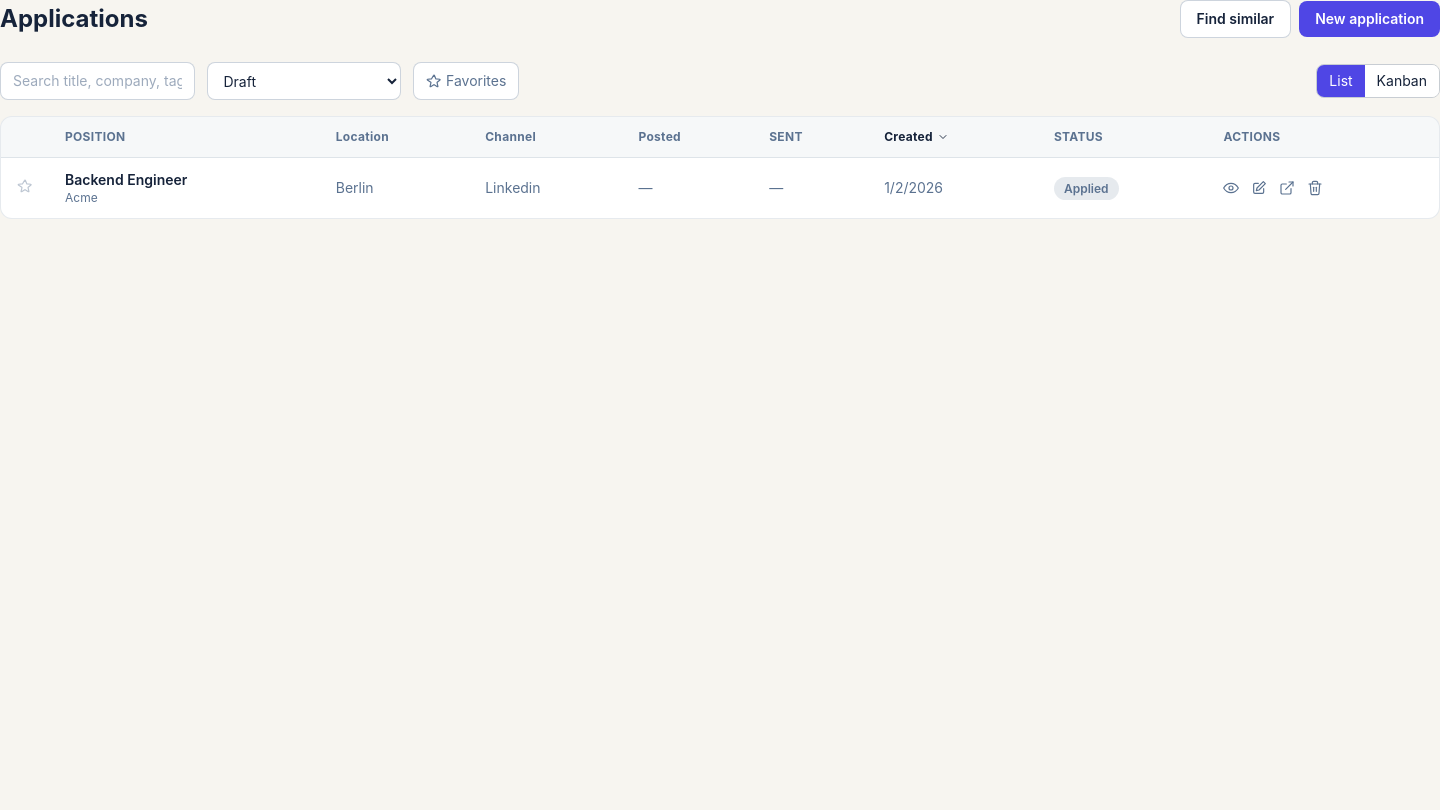
Scenario: ApplicationsListPage › opens the quick-view modal with the job description when the view icon is clicked (happy path)
Click the button named "view details" at (1231, 188), box [1223,180,1239,196]
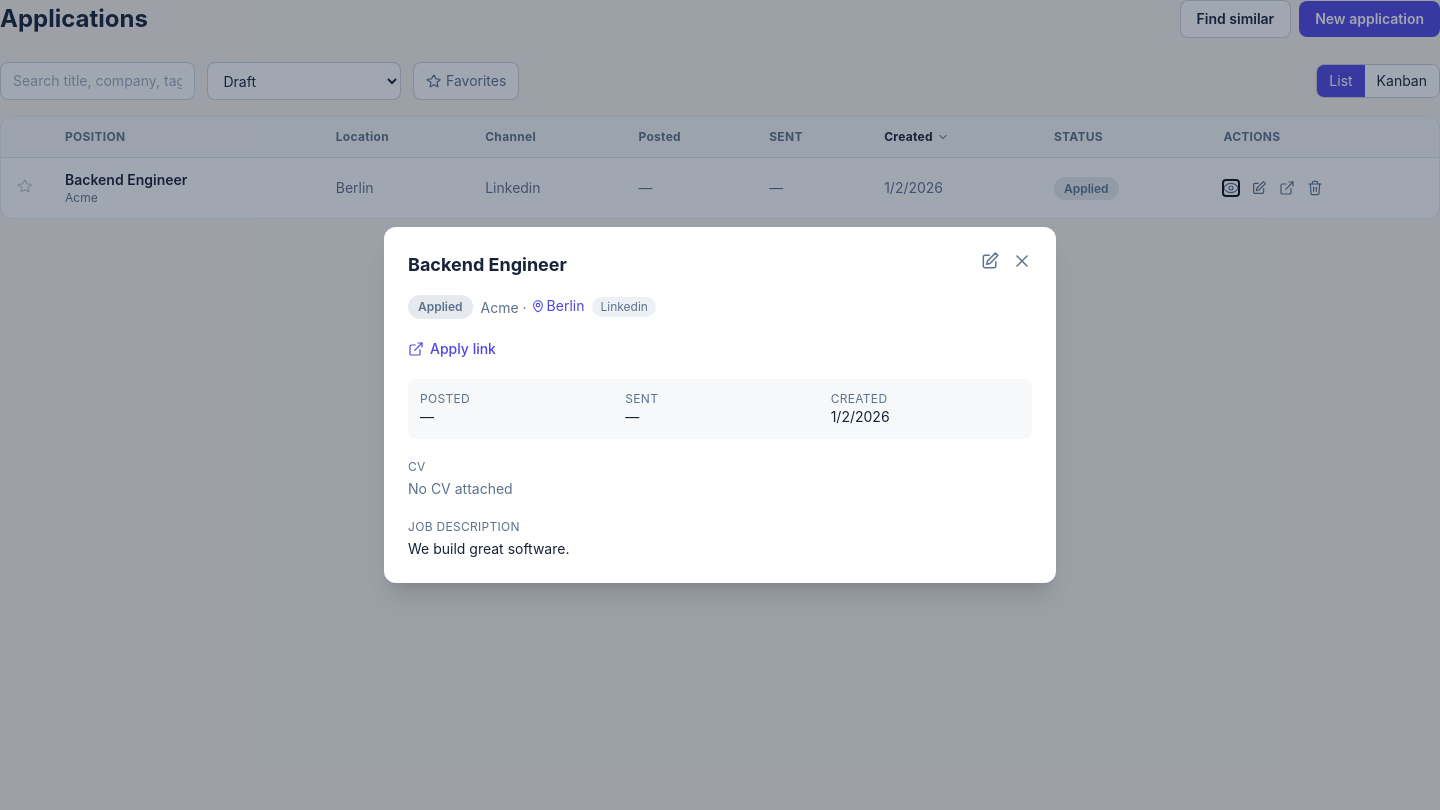
Expected: the dialog is shown, [384,227,1056,583]
Expected: the text "We build great software." is shown, [408,540,570,557]
